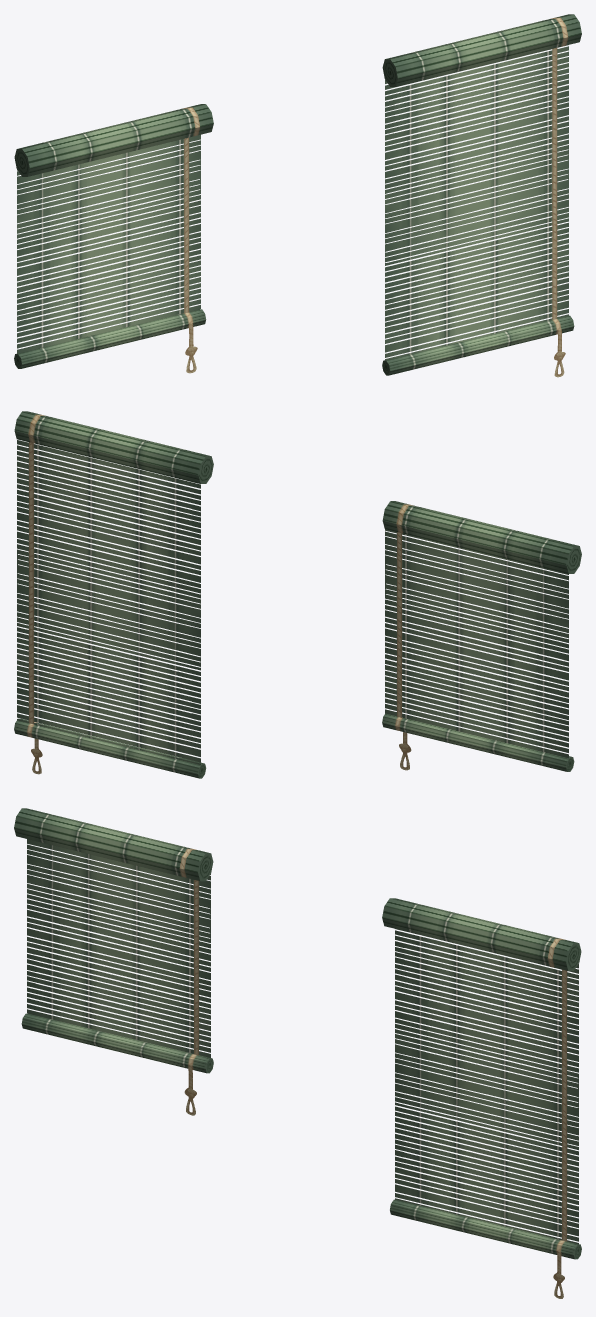
The model's file is Persiana_Comp.fbx.
3 renders of one model, top to bottom at view 1: azimuth 30°, elevation 25°; view 2: azimuth 150°, elevation 25°; view 3: azimuth 330°, elevation 25°, orthographic.
Parts seen in each view (by area): view 1: Persiana_v2, Persiana_v1; view 2: Persiana_v2, Persiana_v1; view 3: Persiana_v2, Persiana_v1.
Boxes of the visible parts, x1,y1,x2,y2 form: Persiana_v2: (382, 14, 581, 377); Persiana_v1: (14, 104, 213, 373); Persiana_v2: (14, 411, 213, 778); Persiana_v1: (382, 501, 581, 771); Persiana_v2: (382, 898, 581, 1298); Persiana_v1: (14, 808, 213, 1115).
Bounding box in the file's own units: 300 × 187 × 14.92.
Materials: 1 (1 with a texture image).
